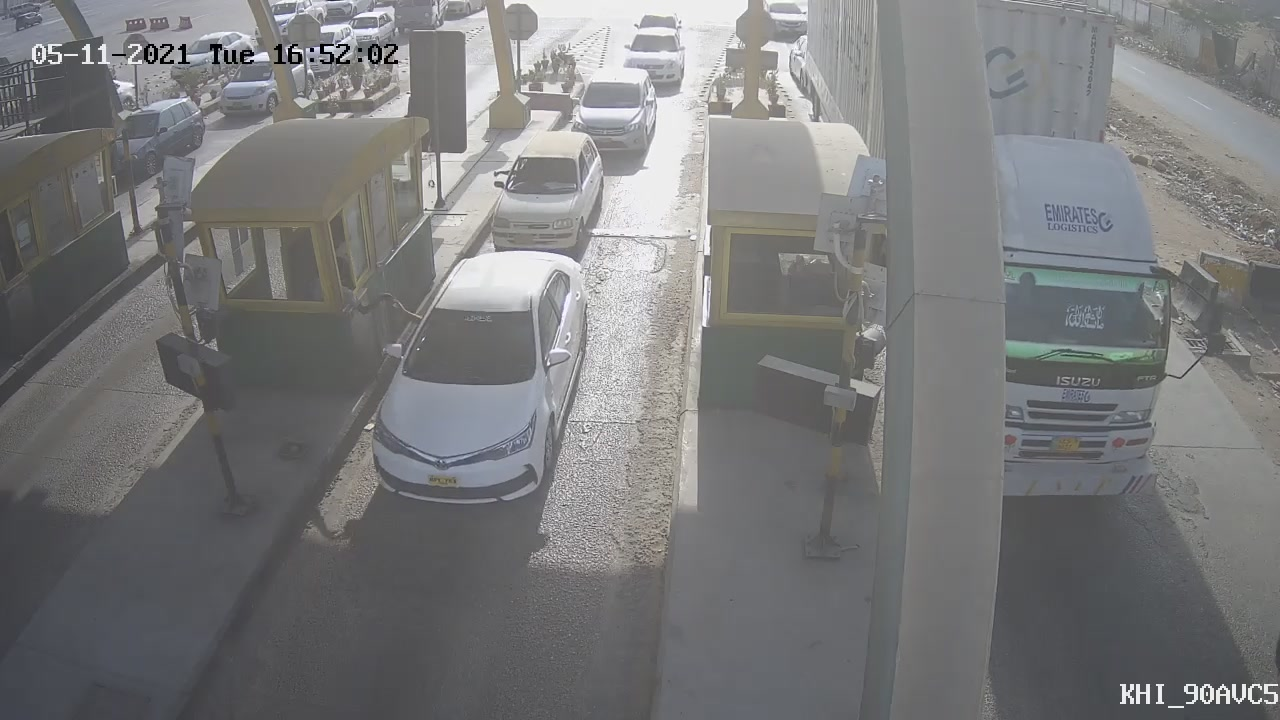F1: (348, 230, 620, 529), (472, 118, 618, 262), (555, 56, 672, 174)
